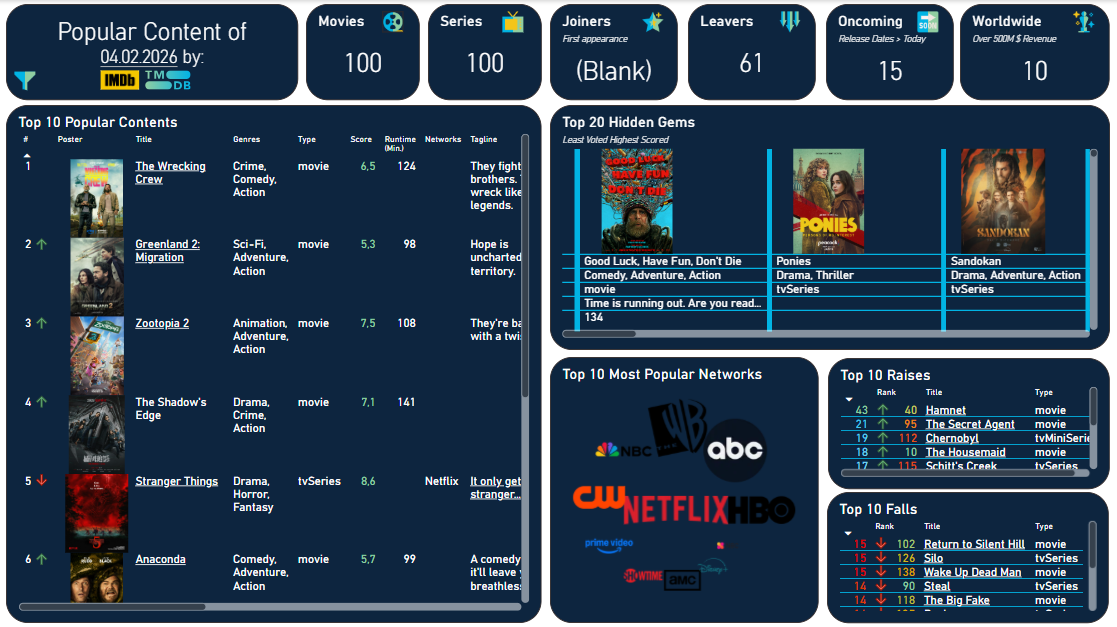

This screenshot's page, from the dashboard's own definition file:
{"tool":"powerbi","page":{"name":"Landing Page","canvas":[1280,720],"ordinal":0},"visuals":[{"type":"textbox","title":"Title","box":[10,5,305,130],"z":0,"group":"g6"},{"type":"card","title":"Binge Worthy","fields":{"Values":["dim_content.M_BingeWorthy"]},"box":[640,5,150,130],"z":0,"group":"g4"},{"type":"card","title":"Quick Watch","fields":{"Values":["dim_content.M_QuickWatch"]},"box":[800,5,152.6,127.7],"z":0,"group":"g3"},{"type":"card","title":"Oncoming","fields":{"Values":["dim_content.M_OnComing"]},"box":[960,5,150,130],"z":0,"group":"g2"},{"type":"card","title":"Global Reach","fields":{"Values":["dim_content.M_GlobalReach"]},"box":[1120,5,150,130],"z":0,"group":"g1"},{"type":"cardVisual","title":"Trending / Total","fields":{"Data":["dim_content.M_Content_Trending","dim_content.M_TotalContent"],"Rows":["dim_content.TypeDisplay"]},"box":[325,8,305,128],"z":0,"group":"g5"},{"type":"tableEx","title":"Top 10 Falls","fields":{"Values":["Key Measures.M_Display_RankChangeToday","Key Measures.M_Rank Today","dim_content.primary_title","dim_content.TypeDisplay","Key Measures.M_RankChangeToday"]},"box":[960,567,310,147],"z":0},{"type":"image","title":"iconBingeWatch","box":[750.6,5,32.8,32.6],"z":1000,"group":"g4"},{"type":"image","title":"iconQuickWatch","box":[909.6,5,33.3,37.1],"z":1000,"group":"g3"},{"type":"image","title":"iconOncomingNonSel","box":[1067.3,8.5,33.3,32],"z":1000,"group":"g2"},{"type":"image","title":"iconGlobalReachNonSel","box":[1233.5,8.5,33.3,32],"z":1000,"group":"g1"},{"type":"image","title":"iconTv","box":[584.2,77,30.5,32],"z":1000,"group":"g5"},{"type":"tableEx","title":"Top 10 Raises","fields":{"Values":["Key Measures.M_RankChangeToday","Key Measures.M_Display_RankChangeToday","Key Measures.M_Rank Today","dim_content.primary_title","dim_content.TypeDisplay"]},"box":[960,415,310,147],"z":1000},{"type":"image","title":"iconMovie","box":[584.2,53,30.5,32],"z":2000,"group":"g5"},{"type":"image","title":"iconFilterNonSel","box":[14.6,80,31.1,34],"z":2000,"group":"g6"},{"type":"ImageGrid_FC5183B9_926C_45E0_B5F7_0CE9EAF1DA9B","title":"Top 10 Most Popular Networks","fields":{"ImageURLHQ":["dim_network.Poster"],"Value":["Sum(fact_popularity.Popularity)"]},"box":[640,415,310,300],"z":2000},{"type":"image","title":"logoTMDB","box":[149.3,80,60.1,32],"z":3000,"group":"g6"},{"type":"pivotTable","title":"Top 20 Hidden Gems","fields":{"Rows":["dim_content.Title"],"Values":["Min(dim_content.Poster)","Min(dim_content.TypeDisplay)","Min(dim_content.Genres)","Sum(dim_content.Score)","Min(dim_content.Runtime_HM_col)","Min(dim_content.Tagline)"]},"box":[640,140,630,270],"z":3000},{"type":"image","title":"logoIMDB","box":[98.3,80,60.1,32],"z":4000,"group":"g6"},{"type":"tableEx","title":"Top 10 Most Popular Contents","fields":{"Values":["fact_popularity.Rank Today","Key Measures.M_Display_RankChangeToday","dim_content.content_poster","dim_content.primary_title","dim_content.GenreList","dim_content.TypeDisplay","dim_content.Score","dim_content.NetworksDisplay","dim_content.TrailerDisplay","dim_content.Release Date.Variation.Date Hierarchy.Year","dim_content.Tagline","dim_content.Language"]},"box":[10,140,620,575],"z":4000},{"type":"group","id":"g1","title":"GlobalReach","box":[1120,5,150,130],"z":5000},{"type":"group","id":"g2","title":"Oncoming","box":[960,5,150,130],"z":6000},{"type":"group","id":"g3","title":"Quick Watch","box":[800,5,150,130],"z":7000},{"type":"group","id":"g4","title":"Binge Watch","box":[640,5,150,130],"z":8000},{"type":"group","id":"g5","title":"Trending","box":[325,8,305,128],"z":9000},{"type":"group","id":"g6","title":"Title","box":[10,5,305,130],"z":10000}]}

Visuals, with their boxes in screenshot pixels (x1, y1, x2, y2), scaled from the page's 1280x720 canvas onto the 1117x627 screenshot:
"Title" textbox: 9:4:275:118
"Binge Worthy" card: 558:4:689:118
"Quick Watch" card: 698:4:831:116
"Oncoming" card: 838:4:969:118
"Global Reach" card: 977:4:1108:118
"Trending / Total" cardVisual: 284:7:550:118
"Top 10 Falls" tableEx: 838:494:1108:622
"iconBingeWatch" image: 655:4:684:33
"iconQuickWatch" image: 794:4:823:37
"iconOncomingNonSel" image: 931:7:960:35
"iconGlobalReachNonSel" image: 1076:7:1105:35
"iconTv" image: 510:67:536:95
"Top 10 Raises" tableEx: 838:361:1108:489
"iconMovie" image: 510:46:536:74
"iconFilterNonSel" image: 13:70:40:99
"Top 10 Most Popular Networks" ImageGrid_FC5183B9_926C_45E0_B5F7_0CE9EAF1DA9B: 558:361:829:623
"logoTMDB" image: 130:70:183:98
"Top 20 Hidden Gems" pivotTable: 558:122:1108:357
"logoIMDB" image: 86:70:138:98
"Top 10 Most Popular Contents" tableEx: 9:122:550:623
"GlobalReach" group: 977:4:1108:118
"Oncoming" group: 838:4:969:118
"Quick Watch" group: 698:4:829:118
"Binge Watch" group: 558:4:689:118
"Trending" group: 284:7:550:118
"Title" group: 9:4:275:118
